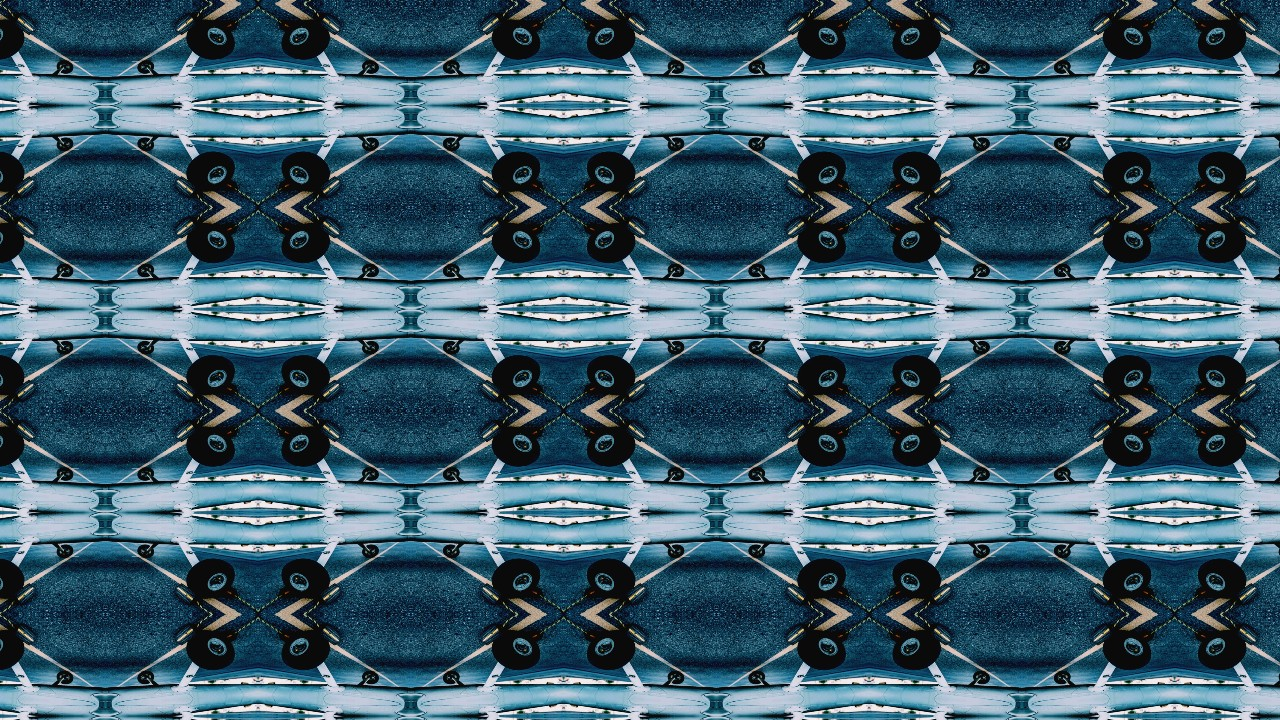chock: (5, 11, 38, 35), (171, 11, 204, 35), (311, 11, 344, 35), (477, 11, 510, 35), (617, 11, 650, 35), (783, 11, 816, 35), (923, 11, 956, 35), (1089, 11, 1122, 35), (1229, 11, 1262, 35), (5, 175, 38, 199), (171, 175, 204, 199), (311, 175, 344, 199), (477, 175, 510, 199), (617, 175, 650, 199), (783, 175, 816, 199), (923, 175, 956, 199), (1089, 175, 1122, 199), (1229, 175, 1262, 199), (5, 215, 38, 239), (171, 215, 204, 239), (311, 215, 344, 239), (477, 215, 510, 239), (617, 215, 650, 239), (783, 215, 816, 239), (923, 215, 956, 239), (1089, 215, 1122, 239), (1229, 215, 1262, 239), (5, 379, 38, 403), (171, 379, 204, 403), (311, 379, 344, 403), (477, 379, 510, 403), (617, 379, 650, 403), (783, 379, 816, 403), (923, 379, 956, 403), (1089, 379, 1122, 403), (1229, 379, 1262, 403), (5, 419, 38, 443), (171, 419, 204, 443), (311, 419, 344, 443), (477, 419, 510, 443), (617, 419, 650, 443), (783, 419, 816, 443), (923, 419, 956, 443), (1089, 419, 1122, 443), (1229, 419, 1262, 443), (5, 583, 38, 607), (171, 583, 204, 607), (311, 583, 344, 607), (477, 583, 510, 607), (617, 583, 650, 607), (783, 583, 816, 607), (923, 583, 956, 607), (1089, 583, 1122, 607), (1229, 583, 1262, 607), (5, 623, 38, 647), (171, 623, 204, 647), (311, 623, 344, 647), (477, 623, 510, 647), (617, 623, 650, 647), (783, 623, 816, 647), (923, 623, 956, 647), (1089, 623, 1122, 647), (1229, 623, 1262, 647), (216, 18, 239, 33), (276, 18, 299, 33), (522, 18, 545, 33), (582, 18, 605, 33), (828, 18, 851, 33), (888, 18, 911, 33), (1134, 18, 1157, 33), (1194, 18, 1217, 33), (216, 177, 239, 192), (276, 177, 299, 192), (522, 177, 545, 192), (582, 177, 605, 192), (828, 177, 851, 192), (888, 177, 911, 192), (1134, 177, 1157, 192), (1194, 177, 1217, 192), (216, 222, 239, 237), (276, 222, 299, 237), (522, 222, 545, 237), (582, 222, 605, 237), (828, 222, 851, 237), (888, 222, 911, 237), (1134, 222, 1157, 237), (1194, 222, 1217, 237), (216, 381, 239, 396), (276, 381, 299, 396), (522, 381, 545, 396), (582, 381, 605, 396), (828, 381, 851, 396), (888, 381, 911, 396), (1134, 381, 1157, 396), (1194, 381, 1217, 396), (216, 426, 239, 441), (276, 426, 299, 441), (522, 426, 545, 441), (582, 426, 605, 441), (828, 426, 851, 441), (888, 426, 911, 441), (1134, 426, 1157, 441), (1194, 426, 1217, 441), (216, 585, 239, 600), (276, 585, 299, 600), (522, 585, 545, 600), (582, 585, 605, 600), (828, 585, 851, 600), (888, 585, 911, 600), (1134, 585, 1157, 600), (1194, 585, 1217, 600), (216, 630, 239, 645), (276, 630, 299, 645), (522, 630, 545, 645), (582, 630, 605, 645), (828, 630, 851, 645), (888, 630, 911, 645), (1134, 630, 1157, 645), (1194, 630, 1217, 645)
wheel: (183, 16, 236, 62), (279, 16, 332, 62), (489, 16, 542, 62), (585, 16, 638, 62), (795, 16, 848, 62), (891, 16, 944, 62), (1101, 16, 1154, 62), (1197, 16, 1250, 62), (183, 148, 236, 194), (279, 148, 332, 194), (489, 148, 542, 194), (585, 148, 638, 194), (795, 148, 848, 194), (891, 148, 944, 194), (1101, 148, 1154, 194), (1197, 148, 1250, 194), (183, 220, 236, 266), (279, 220, 332, 266), (489, 220, 542, 266), (585, 220, 638, 266), (795, 220, 848, 266), (891, 220, 944, 266), (1101, 220, 1154, 266), (1197, 220, 1250, 266), (183, 352, 236, 398), (279, 352, 332, 398), (489, 352, 542, 398), (585, 352, 638, 398), (795, 352, 848, 398), (891, 352, 944, 398), (1101, 352, 1154, 398), (1197, 352, 1250, 398), (183, 424, 236, 470), (279, 424, 332, 470), (489, 424, 542, 470), (585, 424, 638, 470), (795, 424, 848, 470), (891, 424, 944, 470), (1101, 424, 1154, 470), (1197, 424, 1250, 470), (183, 556, 236, 602), (279, 556, 332, 602), (489, 556, 542, 602), (585, 556, 638, 602), (795, 556, 848, 602), (891, 556, 944, 602), (1101, 556, 1154, 602), (1197, 556, 1250, 602), (183, 628, 236, 674), (279, 628, 332, 674), (489, 628, 542, 674), (585, 628, 638, 674), (795, 628, 848, 674), (891, 628, 944, 674), (1101, 628, 1154, 674), (1197, 628, 1250, 674), (0, 16, 26, 62), (0, 148, 26, 194), (0, 220, 26, 266), (0, 352, 26, 398), (0, 424, 26, 470), (0, 556, 26, 602), (0, 628, 26, 674), (55, 59, 74, 74), (135, 59, 154, 74), (361, 59, 380, 74), (441, 59, 460, 74), (667, 59, 686, 74), (747, 59, 766, 74), (973, 59, 992, 74), (1053, 59, 1072, 74), (55, 136, 74, 151), (135, 136, 154, 151), (361, 136, 380, 151), (441, 136, 460, 151), (667, 136, 686, 151), (747, 136, 766, 151), (973, 136, 992, 151), (1053, 136, 1072, 151), (55, 263, 74, 278), (135, 263, 154, 278), (361, 263, 380, 278), (441, 263, 460, 278), (667, 263, 686, 278), (747, 263, 766, 278), (973, 263, 992, 278), (1053, 263, 1072, 278), (55, 340, 74, 355), (135, 340, 154, 355), (361, 340, 380, 355), (441, 340, 460, 355), (667, 340, 686, 355), (747, 340, 766, 355), (973, 340, 992, 355), (1053, 340, 1072, 355), (55, 467, 74, 482), (135, 467, 154, 482), (361, 467, 380, 482), (441, 467, 460, 482), (667, 467, 686, 482), (747, 467, 766, 482), (973, 467, 992, 482), (1053, 467, 1072, 482), (55, 544, 74, 559), (135, 544, 154, 559), (361, 544, 380, 559), (441, 544, 460, 559), (667, 544, 686, 559), (747, 544, 766, 559), (973, 544, 992, 559), (1053, 544, 1072, 559), (55, 671, 74, 686), (135, 671, 154, 686), (361, 671, 380, 686), (441, 671, 460, 686), (667, 671, 686, 686), (747, 671, 766, 686), (973, 671, 992, 686), (1053, 671, 1072, 686)
